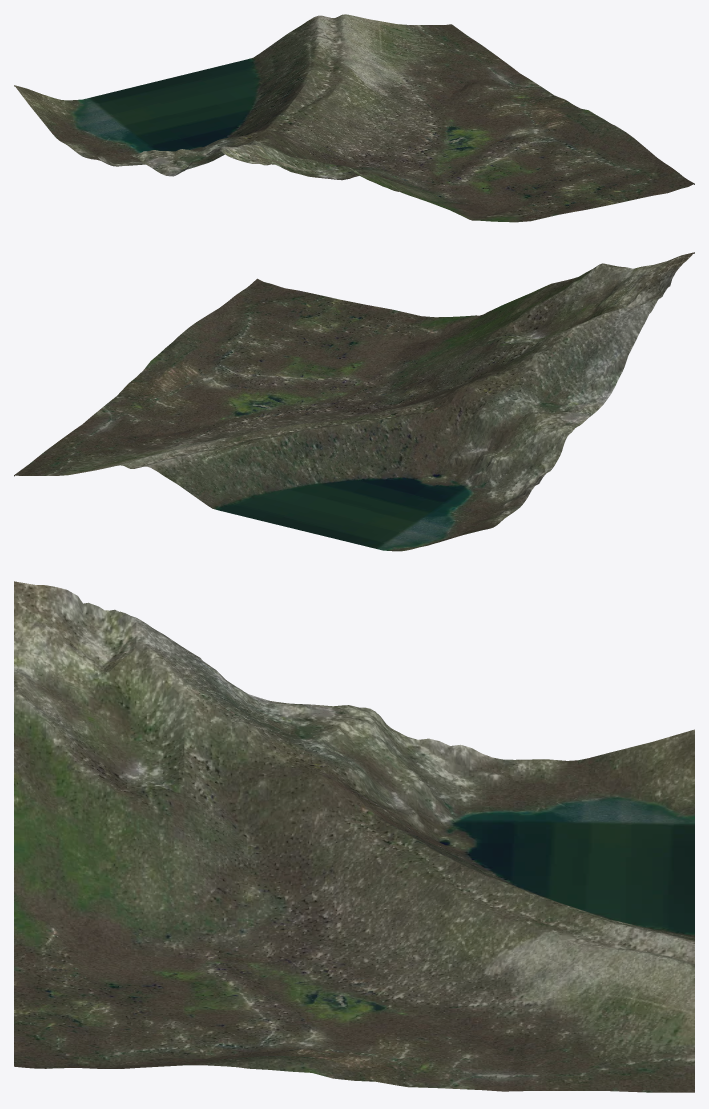
3 renders of one model, top to bottom at view 1: azimuth 30°, elevation 25°; view 2: azimuth 150°, elevation 25°; view 3: azimuth 270°, elevation 25°, orthographic. The views are drawn at different scales.
Size of the model in its own units: 2000 by 669 by 1925.
Materials: 1 (1 with a texture image).
